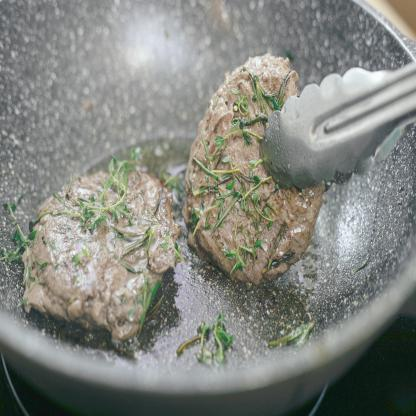Carne: (18, 154, 173, 332), (197, 53, 298, 277)
